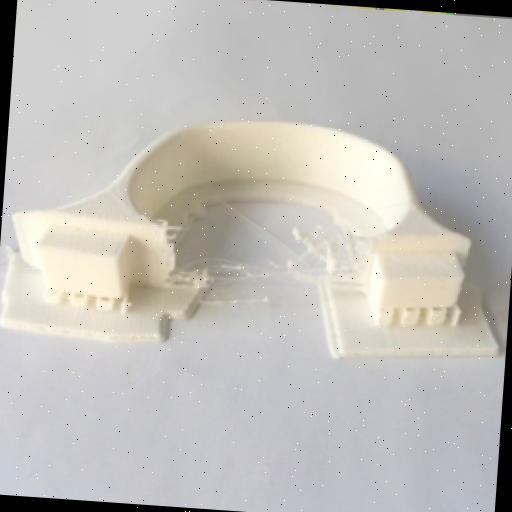stringing: (212, 206, 342, 308), (159, 212, 191, 258)
